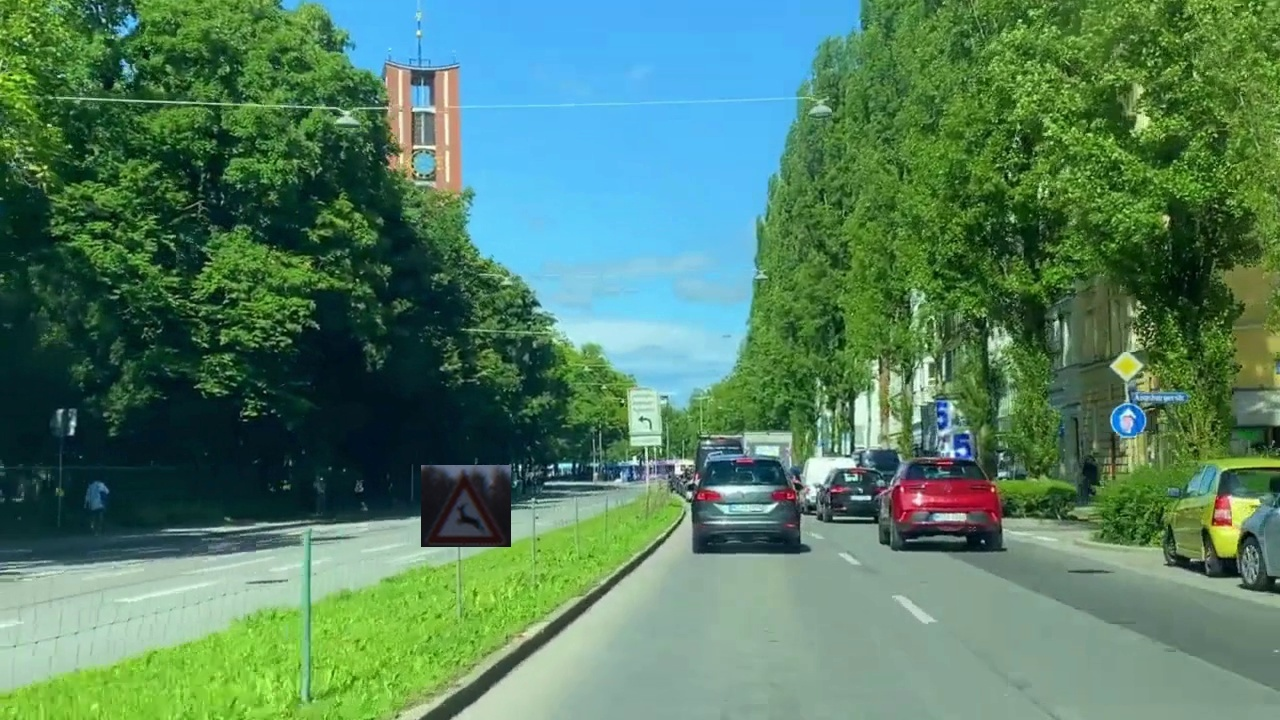Wild animals: (421, 465, 511, 547)
